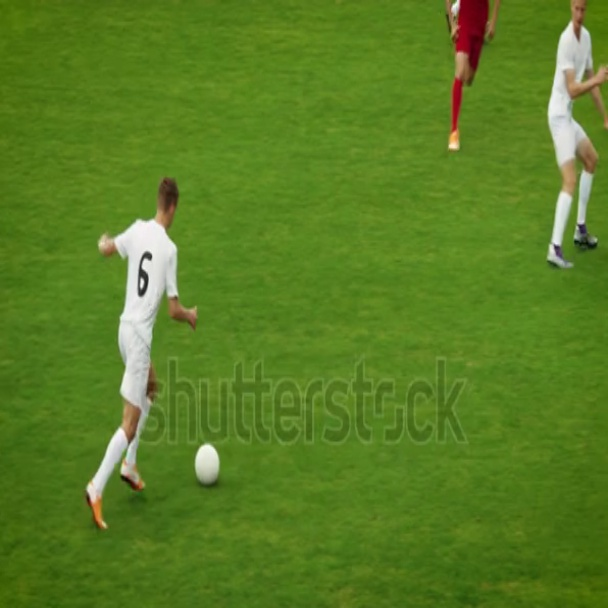ball: (191, 440, 223, 489)
